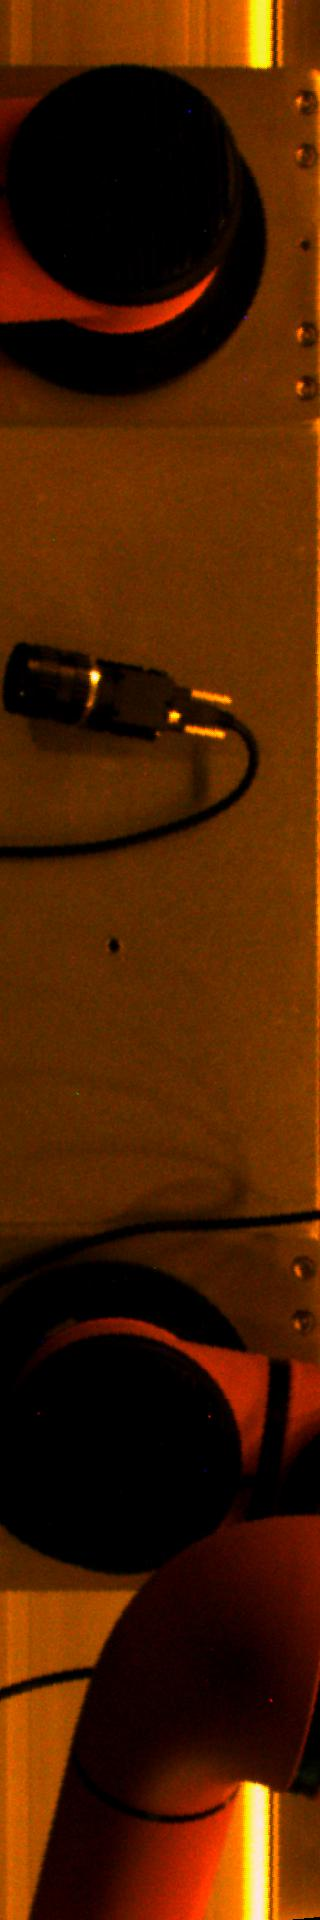keyPoint_2: (98, 931, 128, 961)
